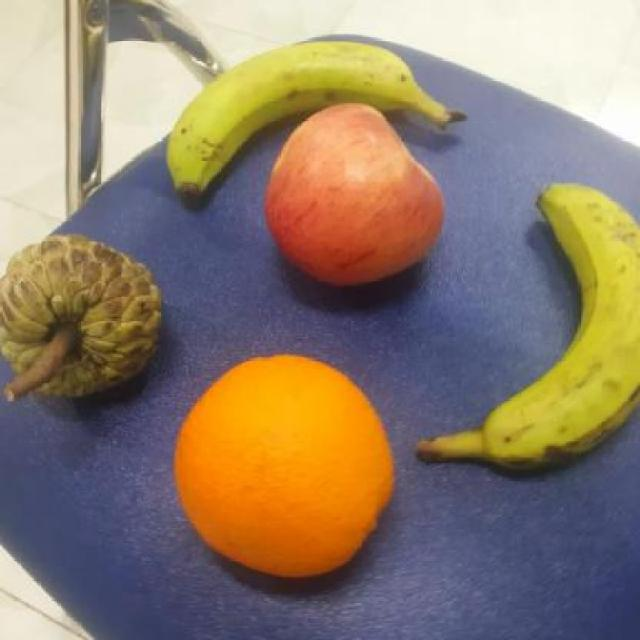apple: (267, 100, 447, 291)
banana: (497, 174, 638, 486)
oren: (168, 350, 398, 582)
sugar apple: (1, 222, 164, 402)
